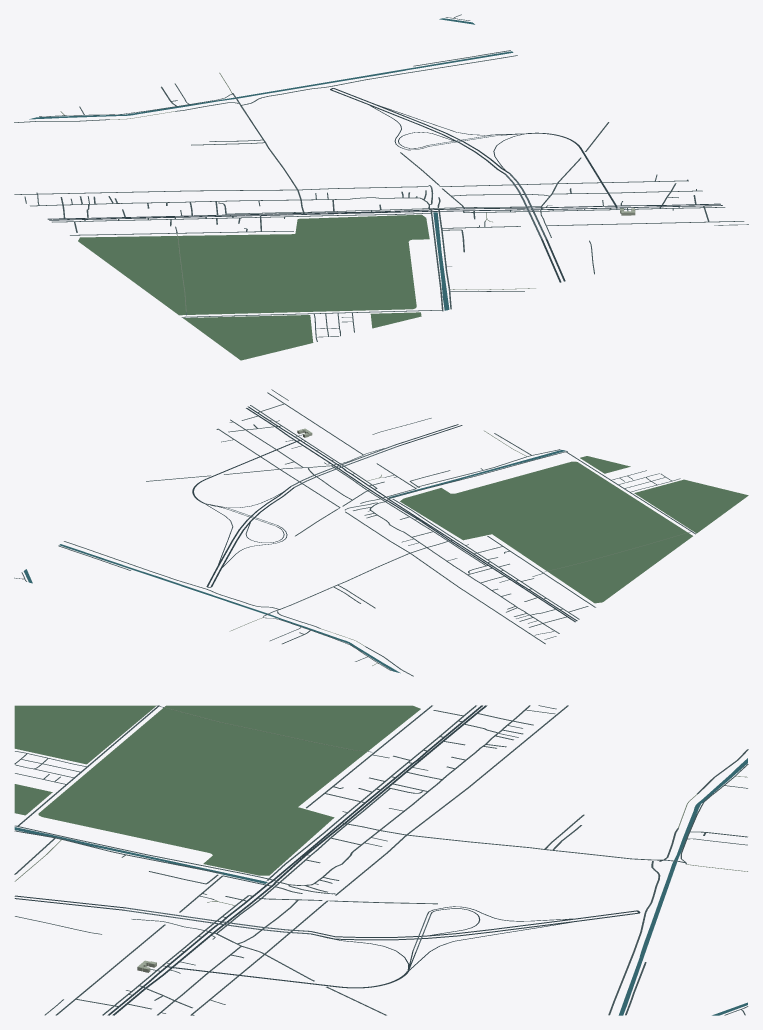
3 renders of one model, top to bottom at view 1: azimuth 30°, elevation 25°; view 2: azimuth 150°, elevation 25°; view 3: azimuth 270°, elevation 25°, orthographic. The views are drawn at different scales.
Visible parts, largest first — view 1: green, street, major, water; view 2: green, street, major, water, bridge; view 3: green, street, major, water, bridge.
Part boxes in pixels (x1,y1,x2,y2): green: (78,214,429,360); street: (14,14,748,341); major: (47,88,722,282); water: (29,18,513,310); green: (400,456,748,603); street: (14,389,695,676); major: (192,406,577,622); water: (23,450,565,673); bridge: (225,445,692,635); green: (14,705,420,875); street: (14,705,748,1015); major: (14,705,640,1015); water: (14,758,747,1015); bridge: (55,705,679,952).
Bounding box in the file's own units: 2004 × 12.42 × 2005.
